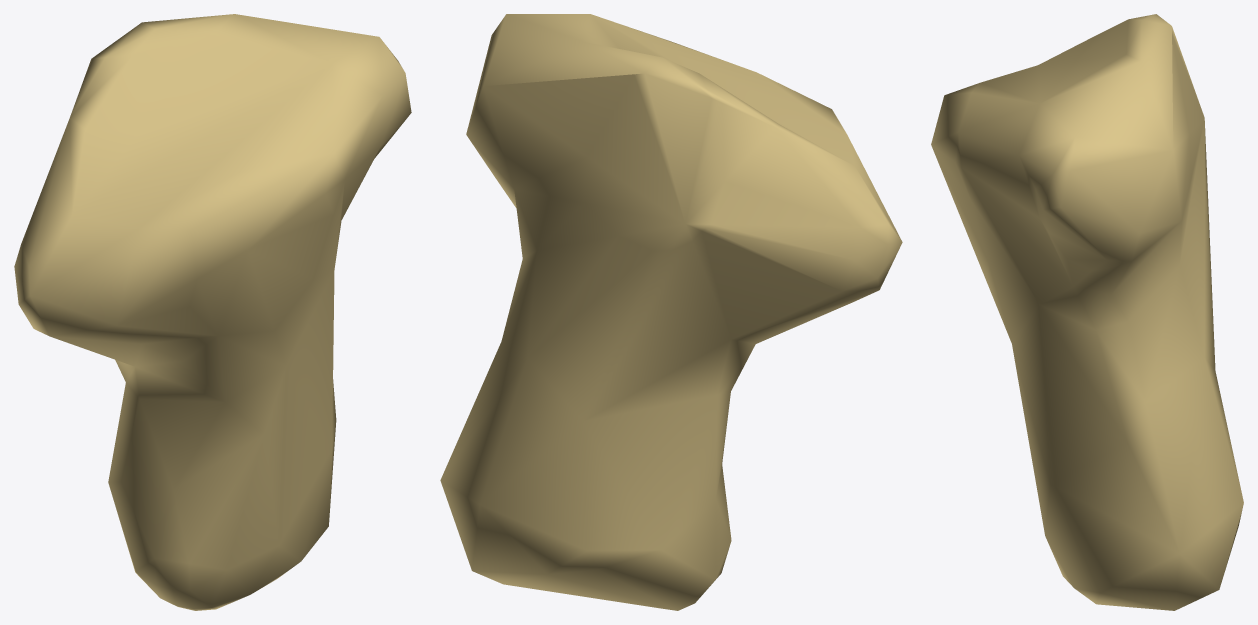
3 renders of one model, left to right at view 1: azimuth 30°, elevation 25°; view 2: azimuth 150°, elevation 25°; view 3: azimuth 270°, elevation 25°, orthographic. The views are drawn at different scales.
Visible parts, largest first — view 1: 左侧第五趾远节趾骨; view 2: 左侧第五趾远节趾骨; view 3: 左侧第五趾远节趾骨.
Part boxes in pixels (bbox=[...]): 左侧第五趾远节趾骨: bbox=[14, 14, 411, 610]; 左侧第五趾远节趾骨: bbox=[440, 14, 902, 610]; 左侧第五趾远节趾骨: bbox=[931, 14, 1243, 610].
Bounding box in the file's own units: 0.0116 × 0.0161 × 0.0083.
